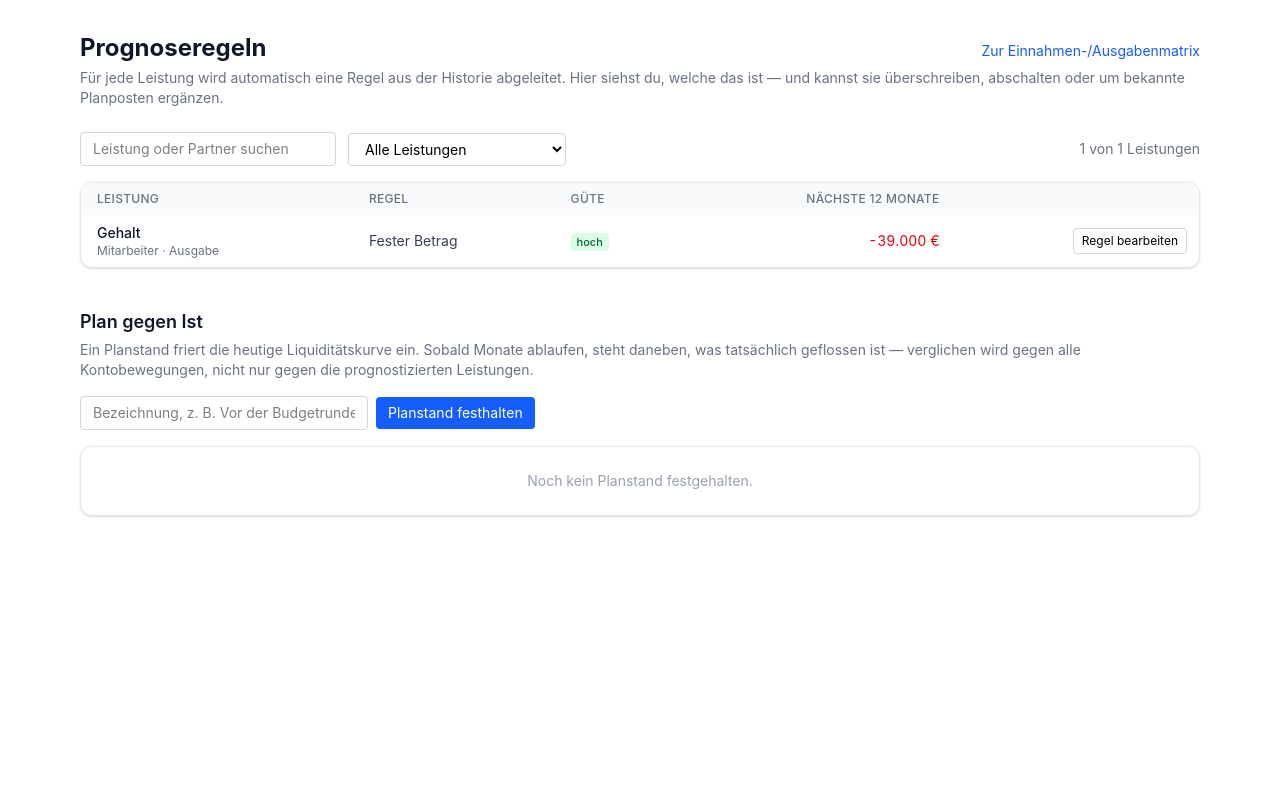
it: ForecastPage – Rückvergleich im Editor › warnt, wenn die Regel schlechter trifft als gar keine
The image size is (1280, 798).
Click the button "Regel bearbeiten".
click(1130, 241)  # box [1073,228,1187,254]
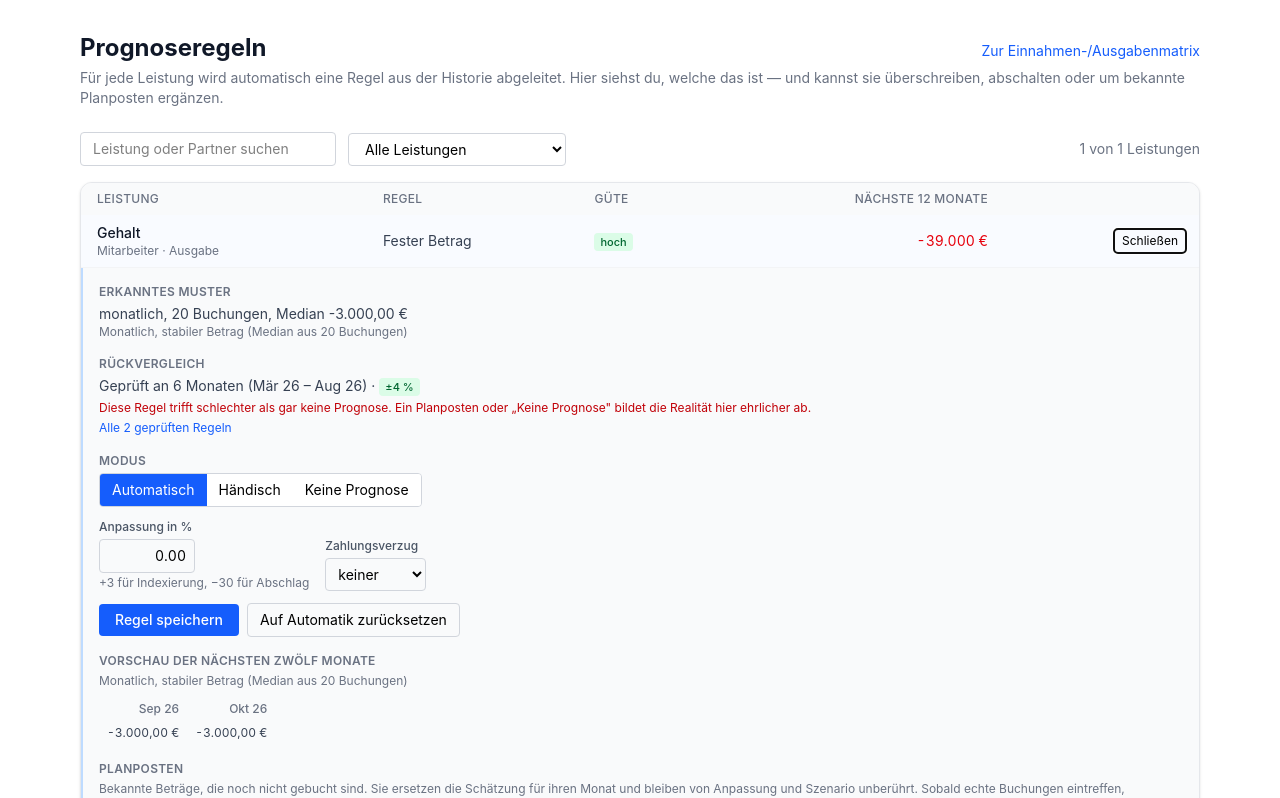
Now the text "trifft schlechter als gar keine Prognose" is shown, box [99,400,811,415]
